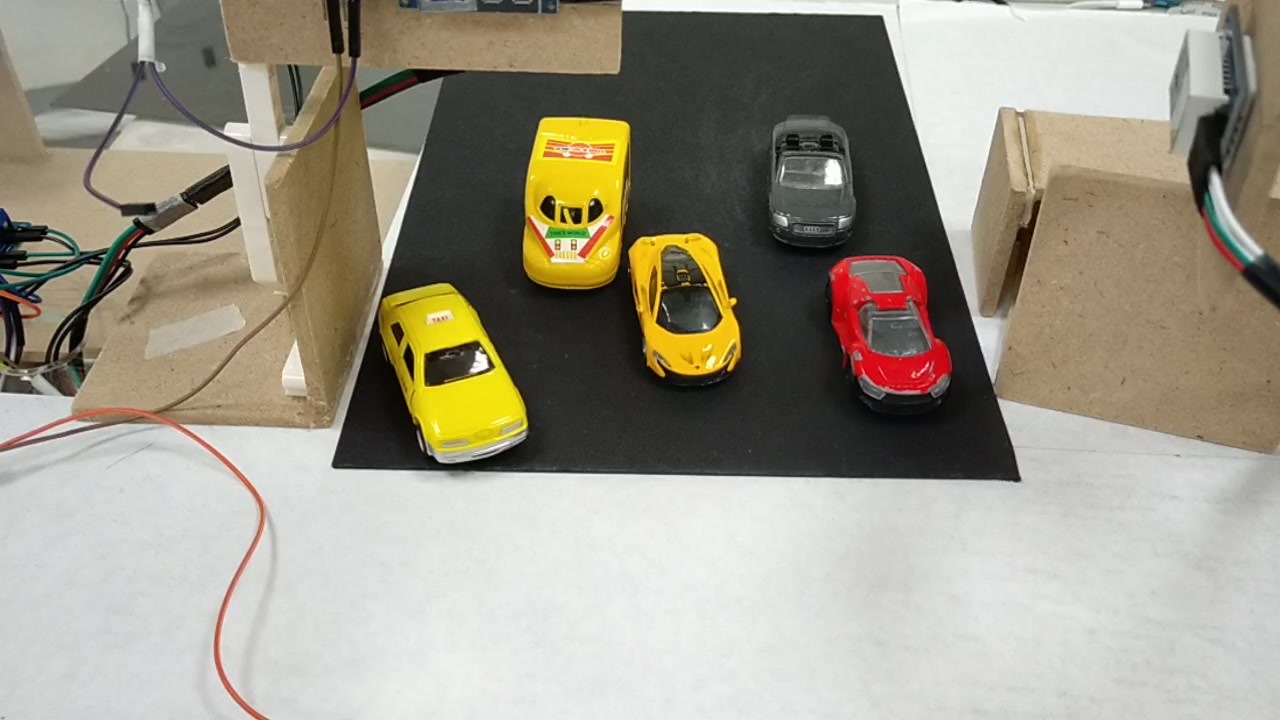car: (371, 291, 528, 464), (826, 258, 949, 408), (627, 234, 744, 384), (766, 116, 856, 245)
